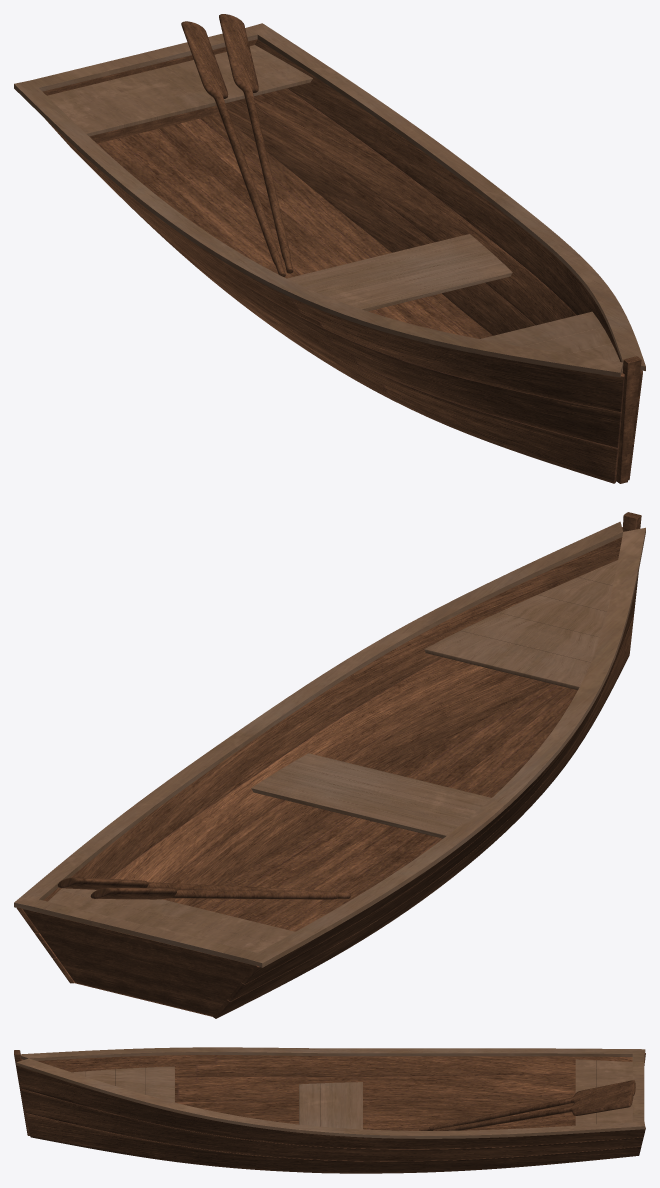
File: wooden_boat.obj
3 renders of one model, top to bottom at view 1: azimuth 30°, elevation 25°; view 2: azimuth 150°, elevation 25°; view 3: azimuth 270°, elevation 25°, orthographic. The views are drawn at different scales.
Visible parts, largest first — view 1: body_1_Cube.004, board_Cube.013, bottom_mesh, bench_2_Plane.002, bench_1_Plane.005, paddle_2_Cube.005, bench_3_Plane.003, paddle_1_Cube, body_2_Cube.002, bow_Cube.003; view 2: body_1_Cube.004, board_Cube.013, bottom_mesh, bench_3_Plane.003, body_2_Cube.002, bench_1_Plane.005, bench_2_Plane.002, paddle_1_Cube, paddle_2_Cube.005; view 3: body_1_Cube.004, board_Cube.013, bench_1_Plane.005, bench_2_Plane.002, bench_3_Plane.003, paddle_2_Cube.005, bottom_mesh, paddle_1_Cube, bow_Cube.003.
Boxes of the visible parts, x1=… form: body_1_Cube.004: x1=45, y1=39, x2=642, y2=483; board_Cube.013: x1=14, y1=23, x2=645, y2=377; bottom_mesh: x1=97, y1=114, x2=492, y2=338; bench_2_Plane.002: x1=47, y1=45, x2=312, y2=136; bench_1_Plane.005: x1=287, y1=234, x2=512, y2=311; paddle_2_Cube.005: x1=219, y1=14, x2=293, y2=273; bench_3_Plane.003: x1=480, y1=311, x2=622, y2=373; paddle_1_Cube: x1=181, y1=21, x2=285, y2=276; body_2_Cube.002: x1=43, y1=39, x2=257, y2=143; bow_Cube.003: x1=616, y1=356, x2=641, y2=483; body_1_Cube.004: x1=16, y1=527, x2=638, y2=1018; board_Cube.013: x1=14, y1=521, x2=645, y2=967; bottom_mesh: x1=75, y1=684, x2=577, y2=1016; bench_3_Plane.003: x1=424, y1=560, x2=617, y2=689; body_2_Cube.002: x1=23, y1=909, x2=254, y2=1016; bench_1_Plane.005: x1=251, y1=753, x2=491, y2=838; bench_2_Plane.002: x1=48, y1=888, x2=295, y2=952; paddle_1_Cube: x1=90, y1=887, x2=350, y2=899; paddle_2_Cube.005: x1=57, y1=877, x2=322, y2=890; body_1_Cube.004: x1=16, y1=1053, x2=645, y2=1173; board_Cube.013: x1=16, y1=1047, x2=645, y2=1138; bench_1_Plane.005: x1=299, y1=1082, x2=362, y2=1129; bench_2_Plane.002: x1=575, y1=1059, x2=632, y2=1125; bench_3_Plane.003: x1=72, y1=1066, x2=174, y2=1102; paddle_2_Cube.005: x1=431, y1=1091, x2=633, y2=1130; bottom_mesh: x1=303, y1=1113, x2=575, y2=1173; paddle_1_Cube: x1=419, y1=1080, x2=635, y2=1130; bow_Cube.003: x1=14, y1=1050, x2=29, y2=1135.
Bounding box in the file's own units: 1.5 × 0.7715 × 4.57.
